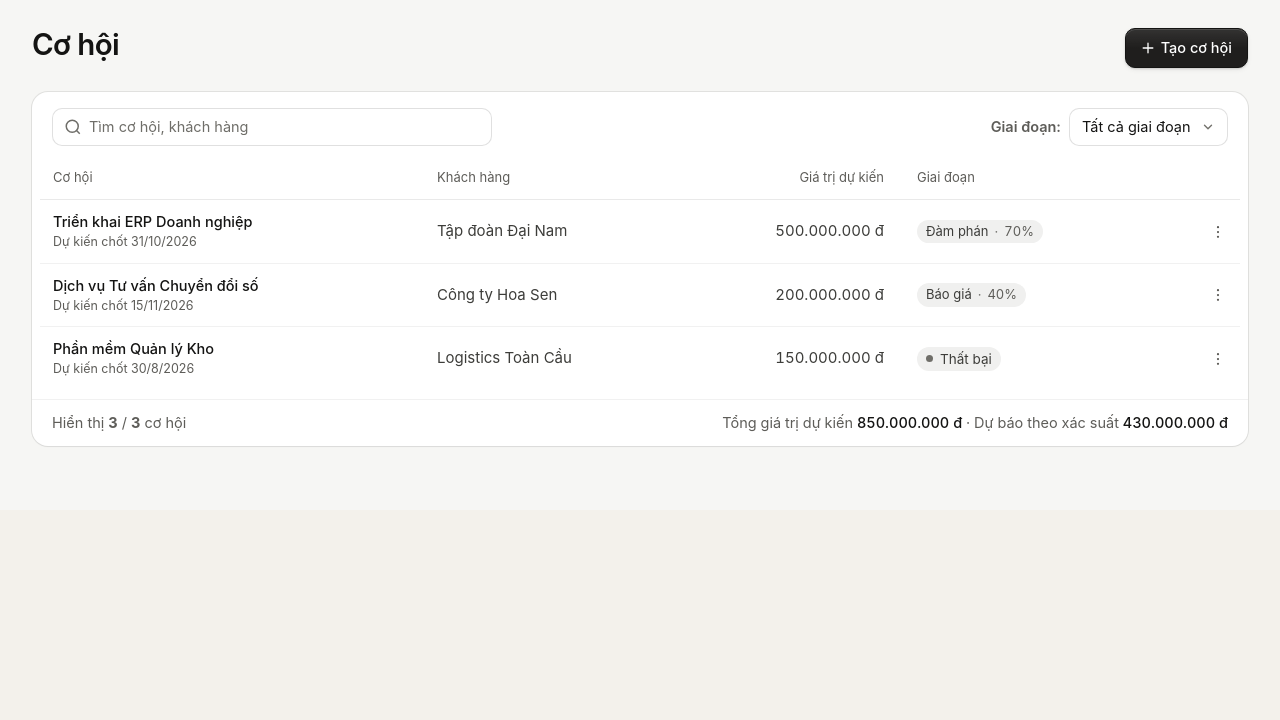
Scenario: Ghi nhận kết quả thắng thua của cơ hội (NCL-03-CN-005) › Quy tắc QTN-06 & khóa cơ hội đã đóng (TC-04) › khóa thao tác với cơ hội đã đóng; lý do thua + đối thủ xem được qua tooltip trên hàng, đầy đủ hơn khi chọn cơ hội đó
Expected: the text with test id "badge-closed-3" reads "Thất bại", [940,351,992,367]
Click the button named "Thao tác với Phần mềm Quản lý Kho" at [1218, 358], box [1202,342,1234,374]
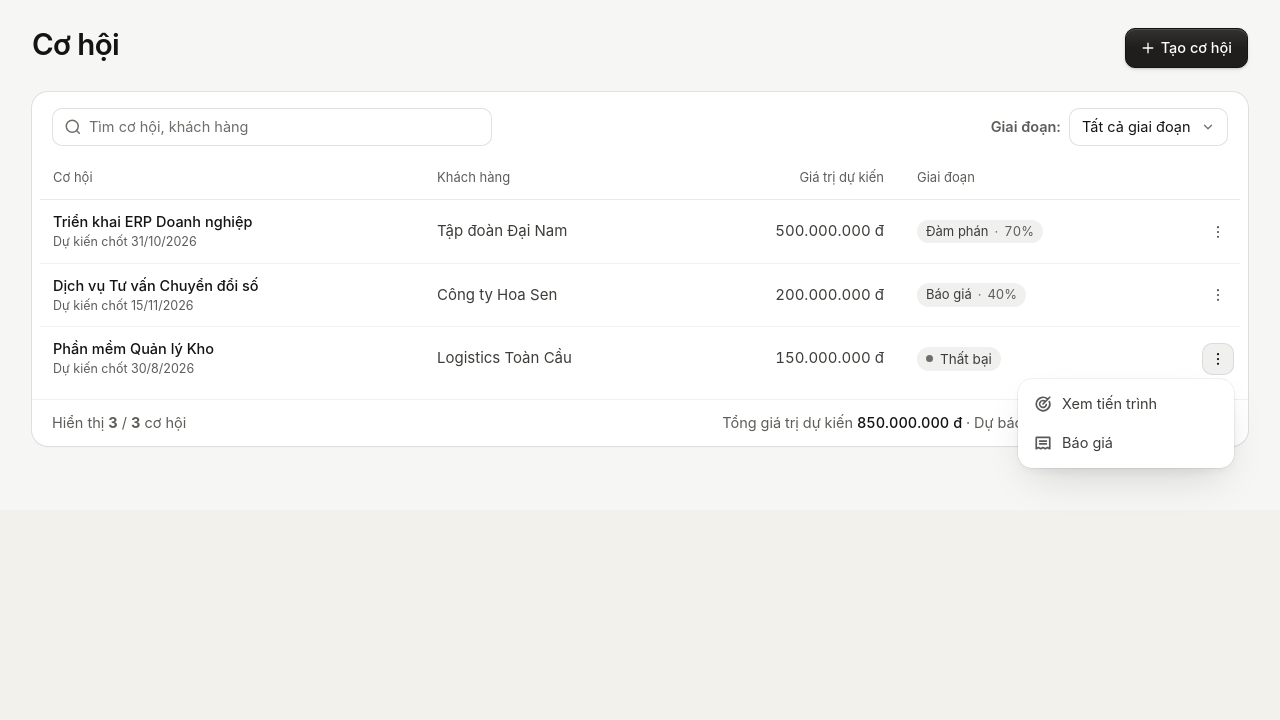
Click the button named "Thao tác với Phần mềm Quản lý Kho" at [1218, 358], box [1202,342,1234,374]
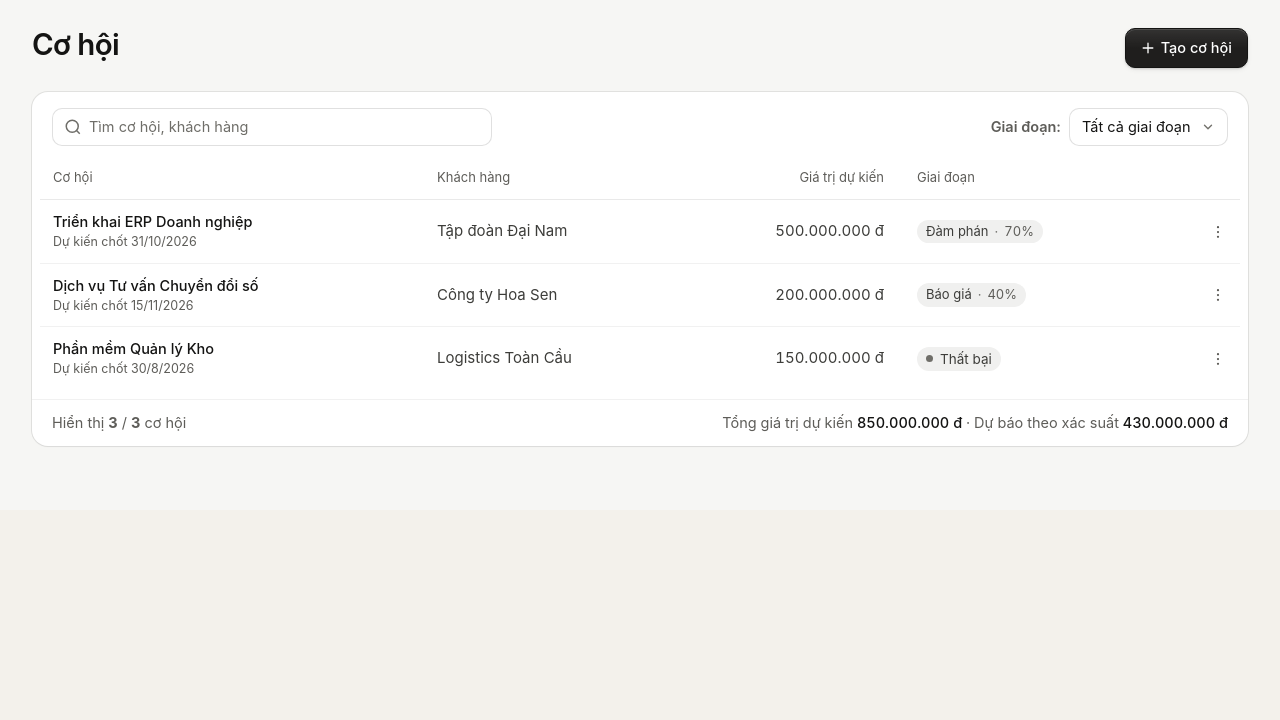
Click the button "Phần mềm Quản lý Kho" at [134, 349], box [53,338,411,360]
(page scrolled)
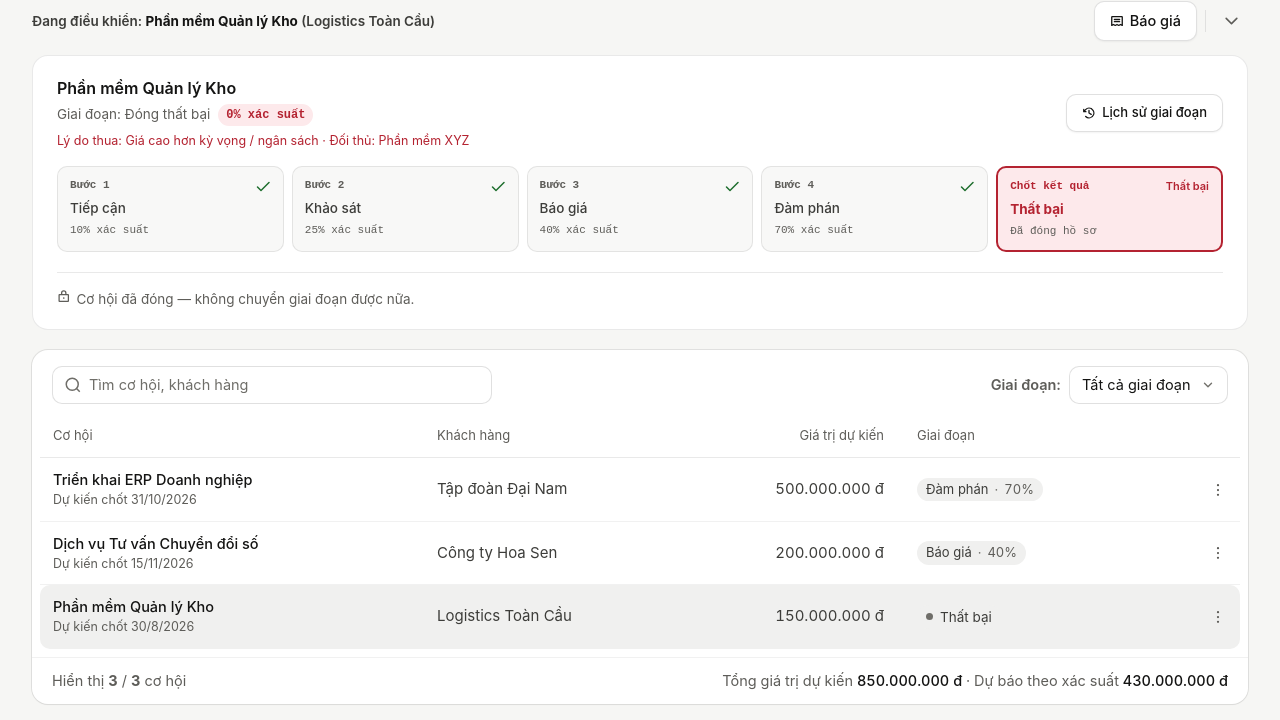
Expected: the text "Lý do thua" shows "Phần mềm XYZ", [319,132,470,148]
